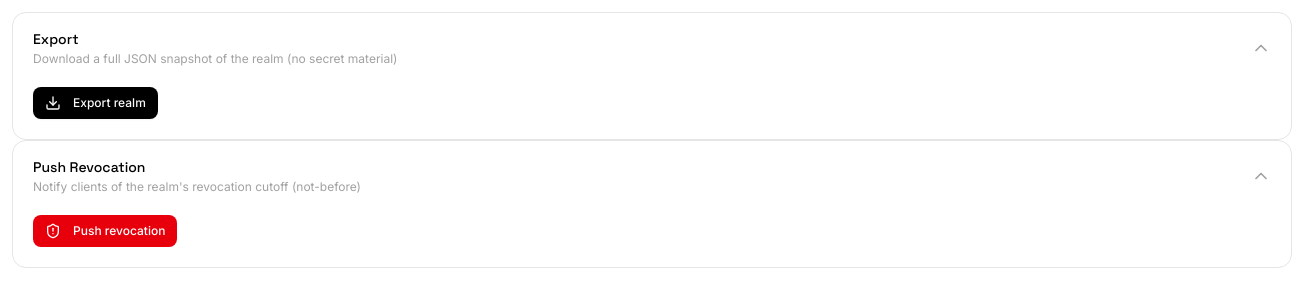
it: RealmActionsSection › shows the error inline when export fails
Click the button "Export realm": [95, 103] box 33,87 -> 158,119
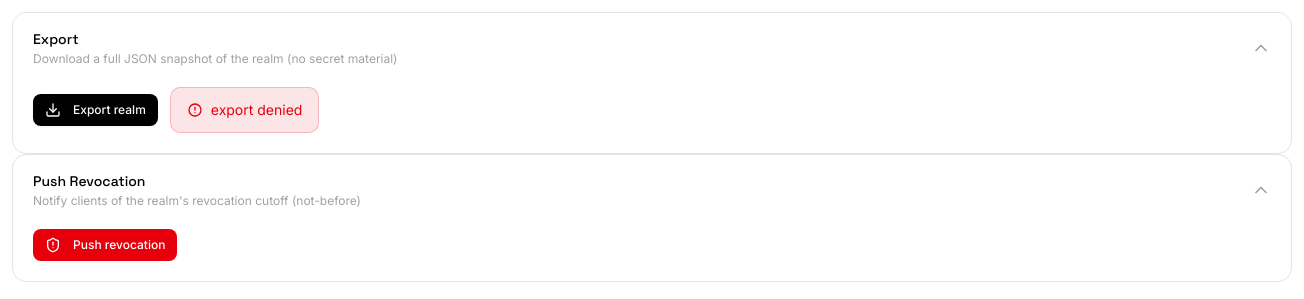
Expected: the text "export denied" is shown, 170,87 -> 319,133
